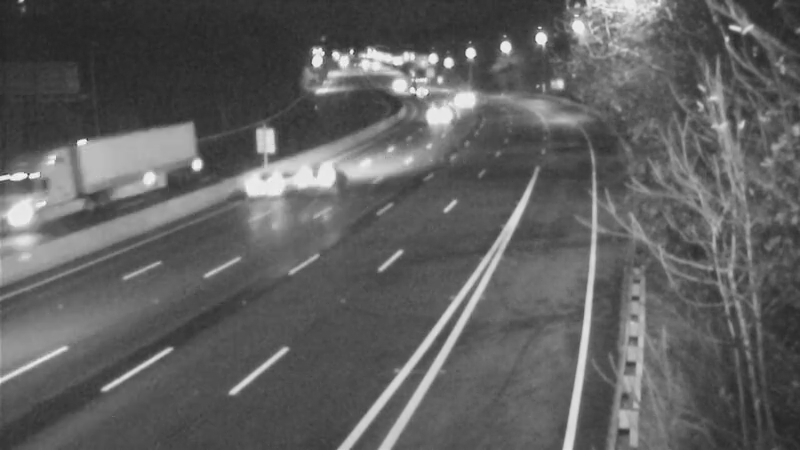vehicle: (282, 136, 362, 216), (234, 138, 314, 218), (2, 154, 82, 234), (368, 59, 418, 109), (393, 60, 443, 110), (436, 72, 486, 122), (417, 81, 467, 131)
